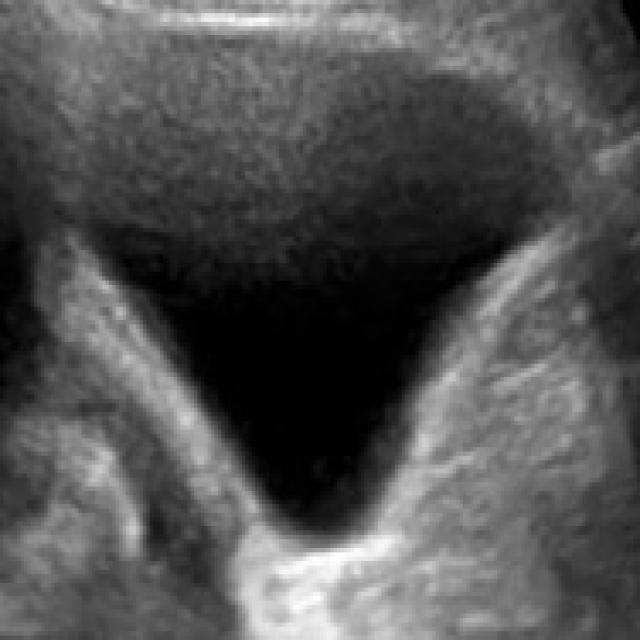bladder: (47, 16, 614, 592)
